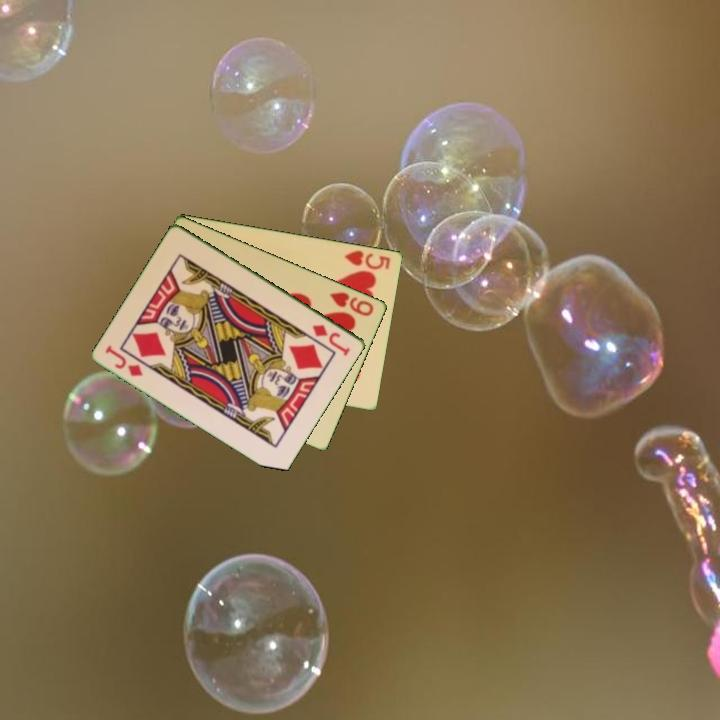5h: (341, 246, 393, 272)
9h: (326, 288, 377, 319)
Jd: (309, 321, 354, 359), (102, 342, 146, 379)
